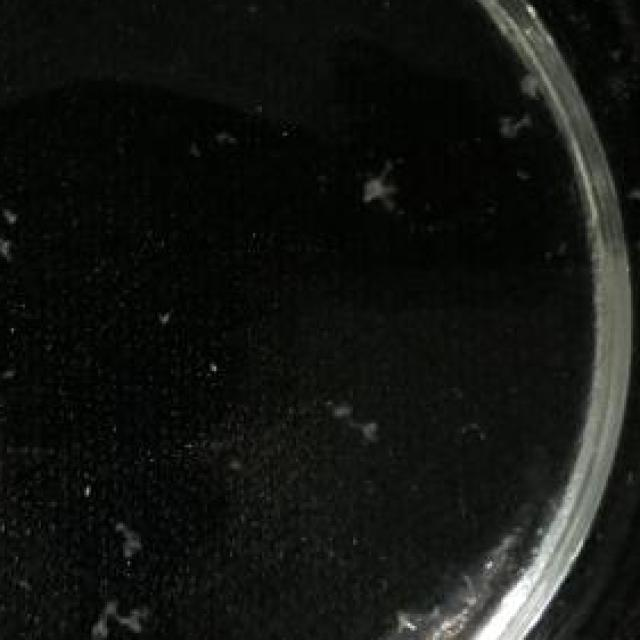Microplastic: (337, 162, 399, 231), (321, 383, 390, 445), (104, 500, 152, 571), (93, 597, 146, 640), (0, 195, 32, 264)
